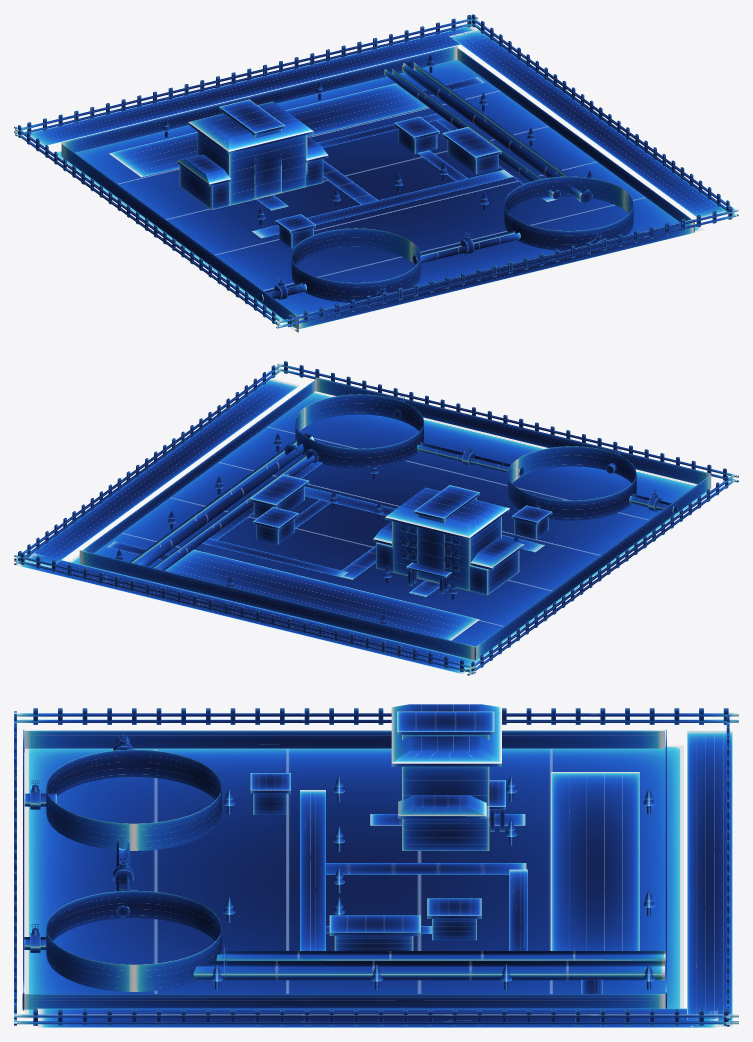
Rendered from shuichang_glb1.glb.
The picture shows the model from 3 angles, top to bottom: view 1: azimuth 30°, elevation 25°; view 2: azimuth 150°, elevation 25°; view 3: azimuth 270°, elevation 25°; orthographic projection. The views are drawn at different scales.
Parts seen in each view (by area): view 1: 空白.8; view 2: 空白.8; view 3: 空白.8.
Part boxes in pixels (x1,y1,x2,y2): 空白.8: (14,14,738,332); 空白.8: (14,361,738,675); 空白.8: (14,704,738,1027).
Bounding box in the file's own units: 114 × 17.95 × 114.
Materials: 1 (1 with a texture image).
